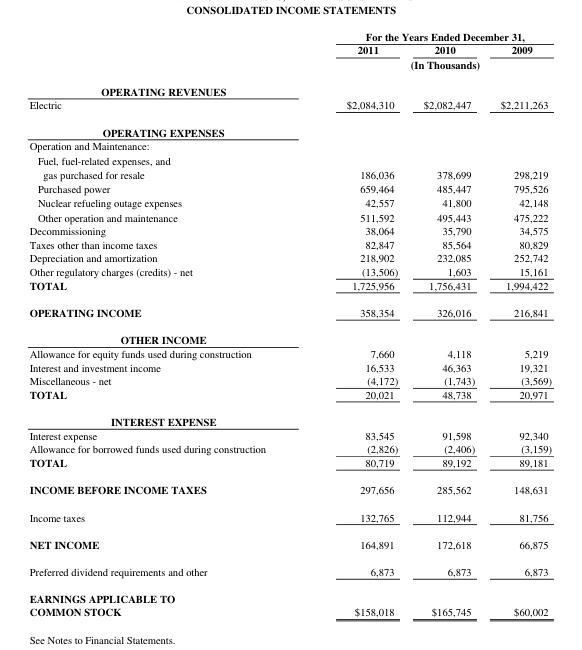table: (28, 29, 551, 618)
table column: (28, 29, 305, 618), (305, 29, 410, 618), (410, 29, 486, 618), (486, 29, 551, 618)
table column header: (28, 29, 551, 77)
table projected row header: (28, 325, 551, 346), (28, 407, 551, 428), (28, 584, 551, 605), (28, 77, 551, 97), (28, 118, 551, 138), (28, 138, 551, 152), (28, 152, 551, 166)
table row: (28, 475, 551, 503), (28, 298, 551, 325), (28, 503, 551, 530), (28, 530, 551, 557), (28, 557, 551, 584), (28, 56, 551, 77), (28, 97, 551, 118), (28, 277, 551, 298), (28, 325, 551, 346), (28, 386, 551, 407), (28, 407, 551, 428), (28, 584, 551, 605), (28, 77, 551, 97), (28, 118, 551, 138), (28, 455, 551, 475), (28, 180, 551, 195), (28, 29, 551, 43), (28, 138, 551, 152), (28, 152, 551, 166), (28, 166, 551, 180), (28, 195, 551, 209), (28, 209, 551, 223), (28, 236, 551, 250), (28, 250, 551, 264), (28, 359, 551, 373), (28, 441, 551, 455), (28, 43, 551, 56), (28, 223, 551, 236), (28, 264, 551, 277), (28, 346, 551, 359), (28, 373, 551, 386), (28, 428, 551, 441), (28, 605, 551, 618)
table spanning cell: (305, 56, 551, 77), (305, 29, 551, 43)
